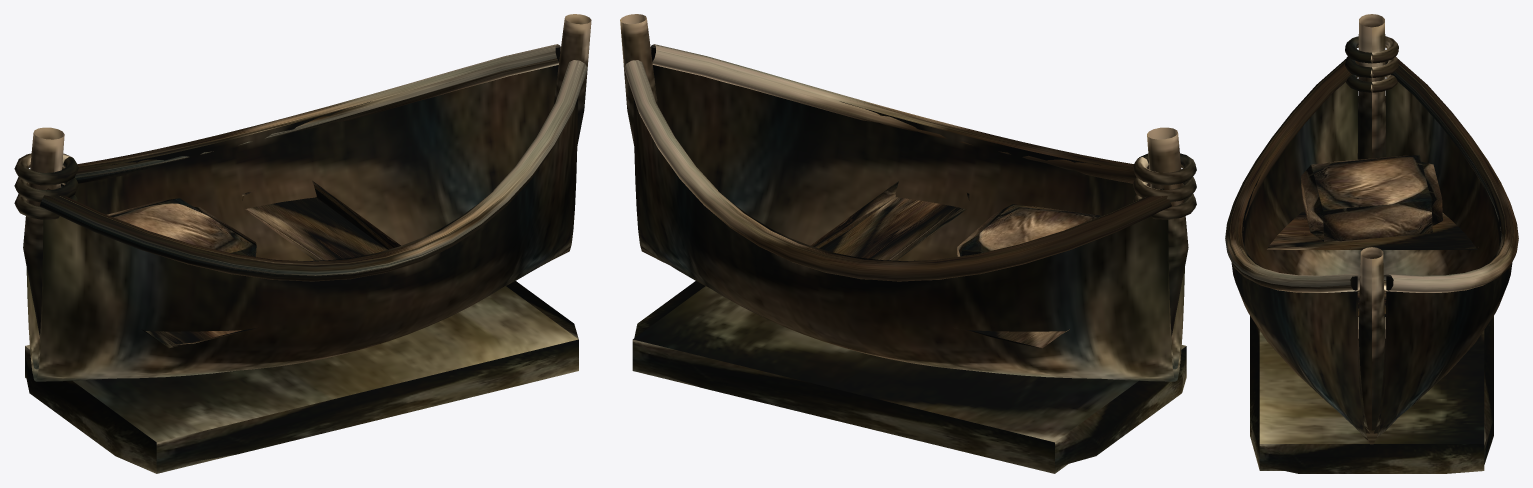
File: galilee-boat.glb
3 renders of one model, left to right at view 1: azimuth 30°, elevation 25°; view 2: azimuth 150°, elevation 25°; view 3: azimuth 270°, elevation 25°, orthographic. The views are drawn at different scales.
Parts seen in each view (by area): view 1: HeroRelicMonument; view 2: HeroRelicMonument; view 3: HeroRelicMonument.
Boxes of the visible parts, box(x1,y1,x2,y2) form: HeroRelicMonument: box(14, 14, 591, 473); HeroRelicMonument: box(620, 14, 1196, 473); HeroRelicMonument: box(1225, 14, 1518, 473).
Size of the model in its own units: 2.44 by 1.25 by 1.28.
1 material, 1 textured.
